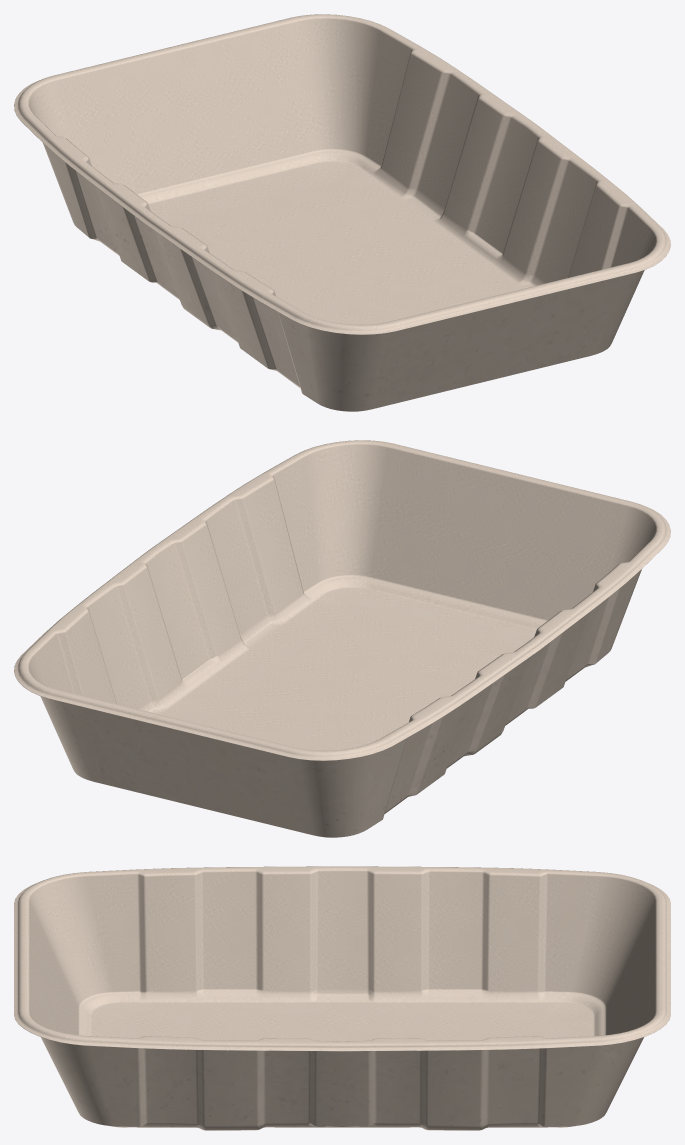
Rendered from box-13-clean-transformed.glb.
The picture shows the model from 3 angles, top to bottom: view 1: azimuth 30°, elevation 25°; view 2: azimuth 150°, elevation 25°; view 3: azimuth 270°, elevation 25°; orthographic projection. The views are drawn at different scales.
Parts seen in each view (by area): view 1: Box_13; view 2: Box_13; view 3: Box_13.
Boxes of the visible parts, x1,y1,x2,y2 form: Box_13: (14, 14, 670, 411); Box_13: (14, 440, 670, 837); Box_13: (14, 866, 670, 1130).
Size of the model in its own units: 0.1773 by 0.05 by 0.2696.
1 material, 1 textured.
